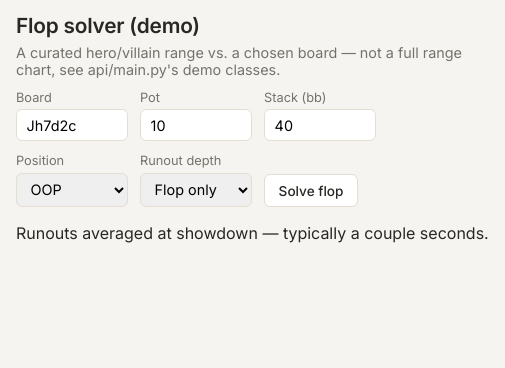
it: FlopSolver › clears a stale result when the depth changes
This screenshot has width=505, height=368.
Click the button "Solve flop" at (311, 191), box [264,174,358,207]
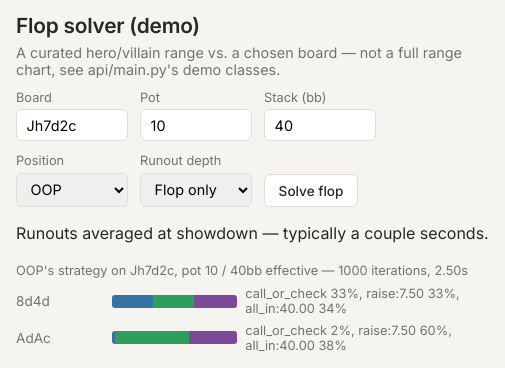
Result: the text "AdAc" is shown at [16,330,51,346]
Select "Flop + turn" in the dropdown labelled "Runout depth" at (196, 190), box [140,173,252,207]
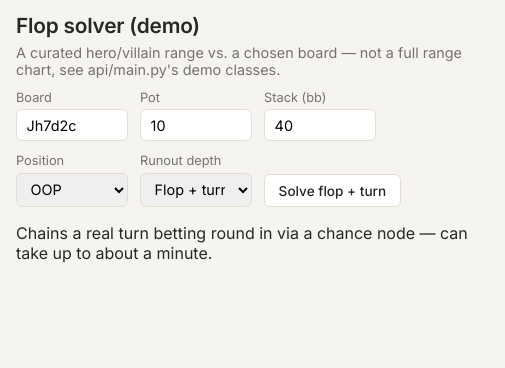
Result: the text "AdAc" is gone
